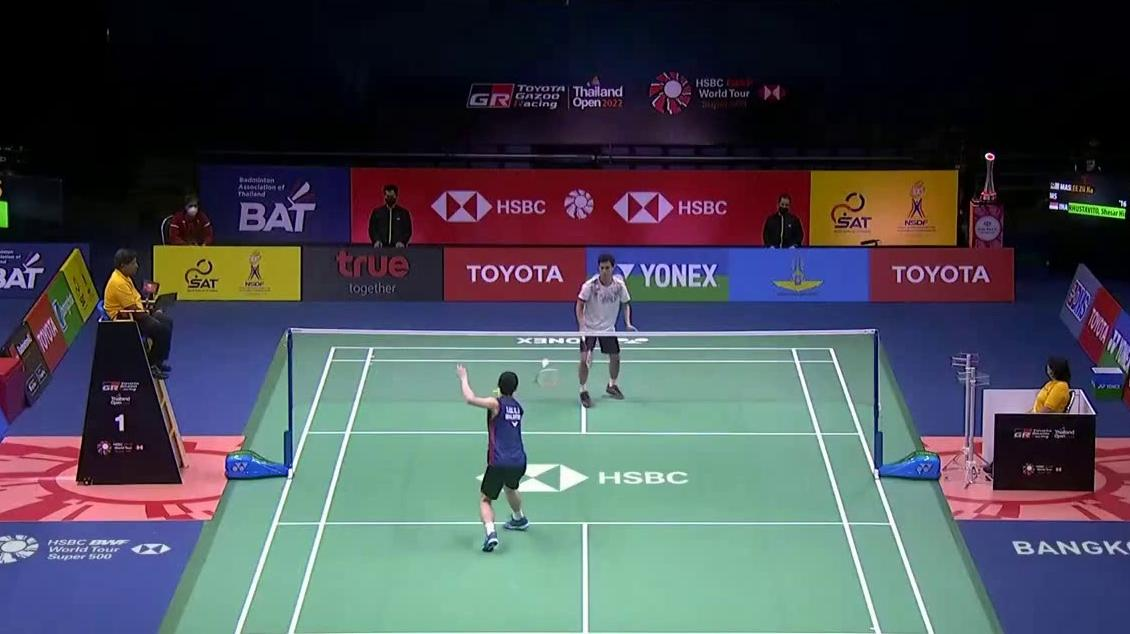racket: (493, 369, 561, 392), (579, 331, 591, 369)
shuttle: (541, 357, 549, 368)
